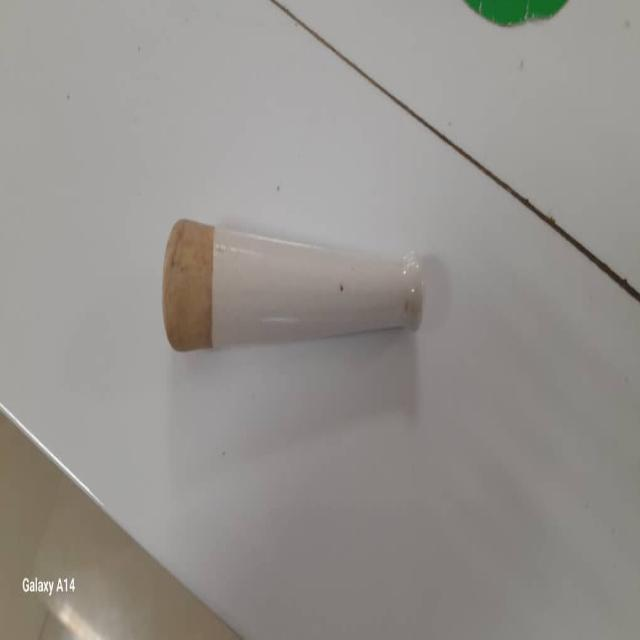Mortar and Pestle: (157, 211, 420, 360)
